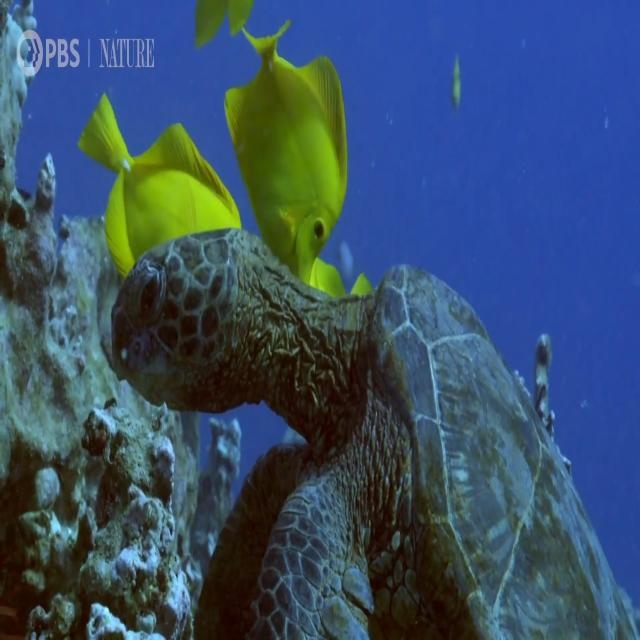Green-Sea-Turtle -Endangered-: (109, 229, 640, 640)
